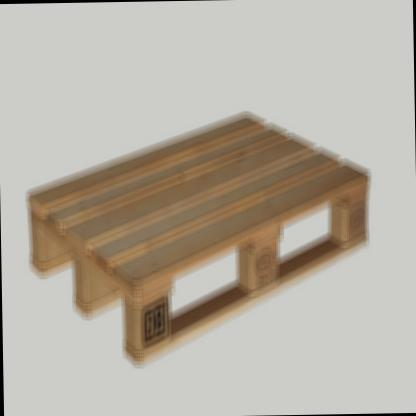BoxFace: (24, 108, 374, 378)
